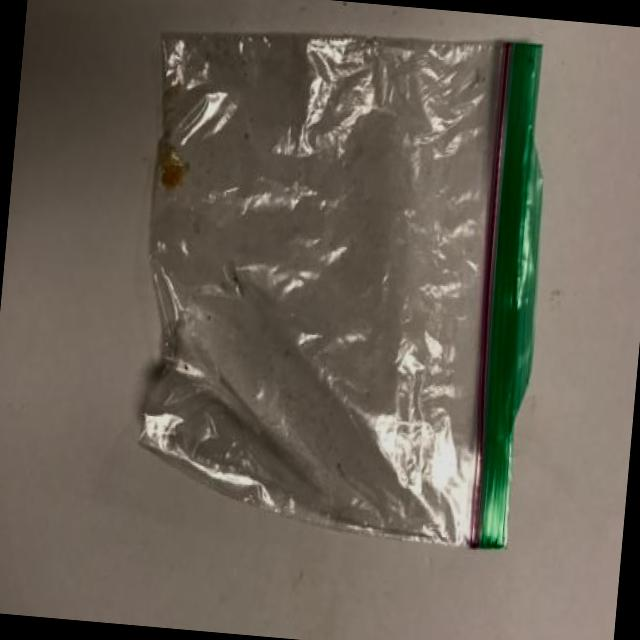nhua: (139, 34, 542, 549)
